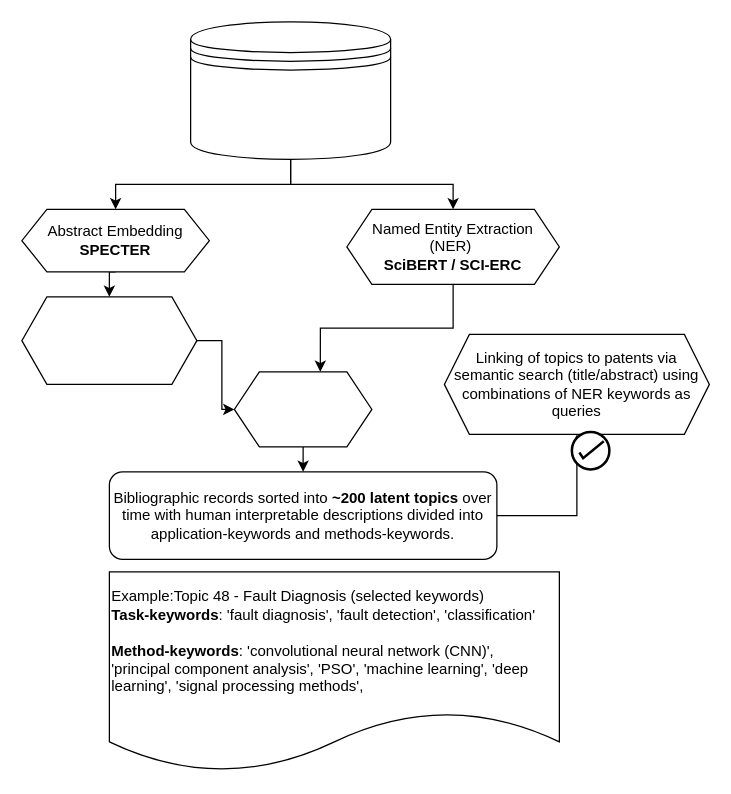
Some shapes in this 731 by 794 pixel diagram are drawn without their labels. The centre of each missing label's shape, as x and y in pixels:
Clusering UMAP / HDBSCAN: [109,340]
Scopus Bibliographic records 2000-2021, ~40k: [290,90]
Topic-keywords cTF-IDF: [302,409]
